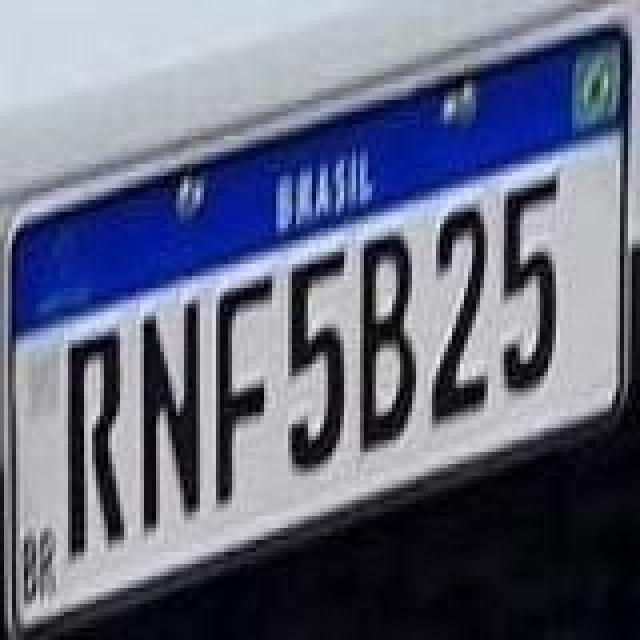2: (430, 200, 490, 424)
5: (290, 246, 350, 474), (498, 168, 558, 392)
B: (358, 232, 418, 456)
F: (218, 272, 278, 512)
N: (140, 298, 204, 534)
R: (66, 332, 126, 564)
